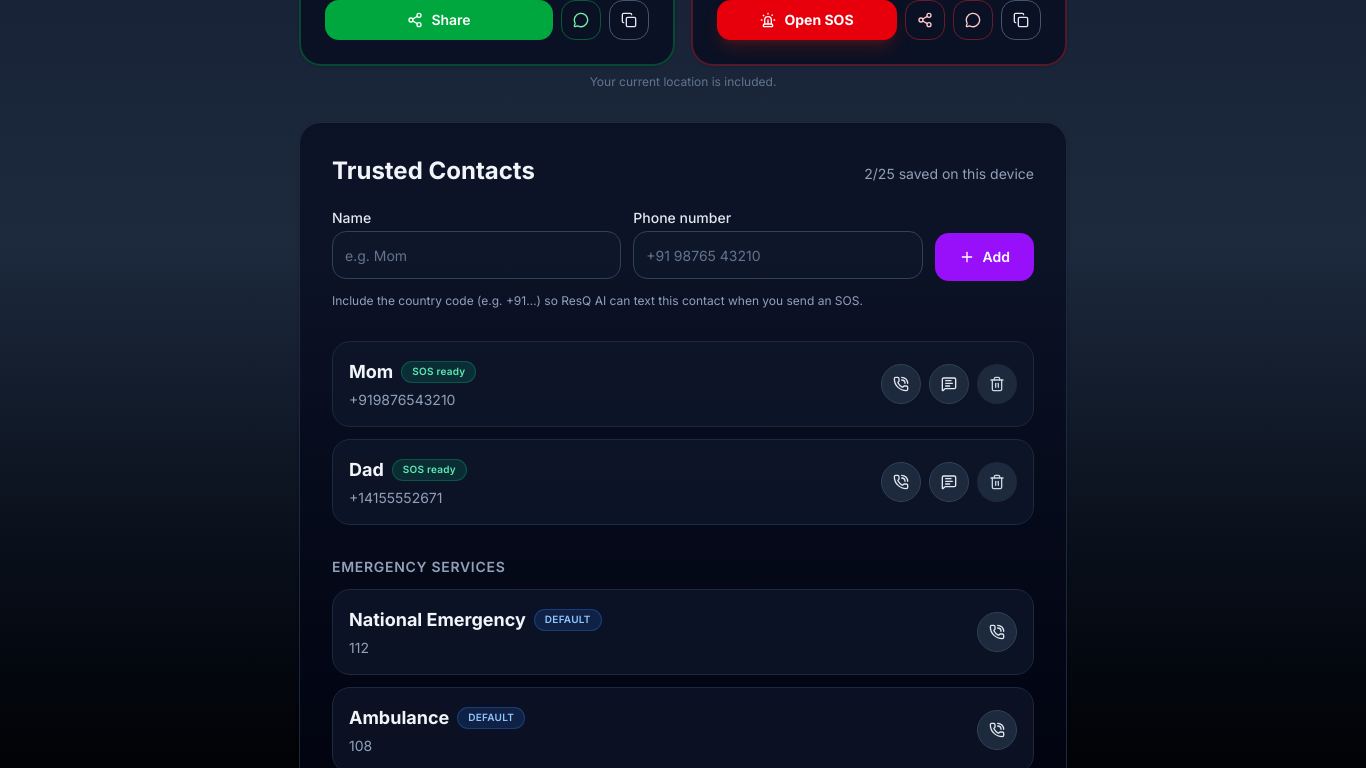
Test case: ContactsView › removes a contact with undo
Later steps or results of the test are not shown.
(page scrolled)
Click the button named "Remove Mom" at (997, 384), box x1=977 y1=364 x2=1017 y2=404
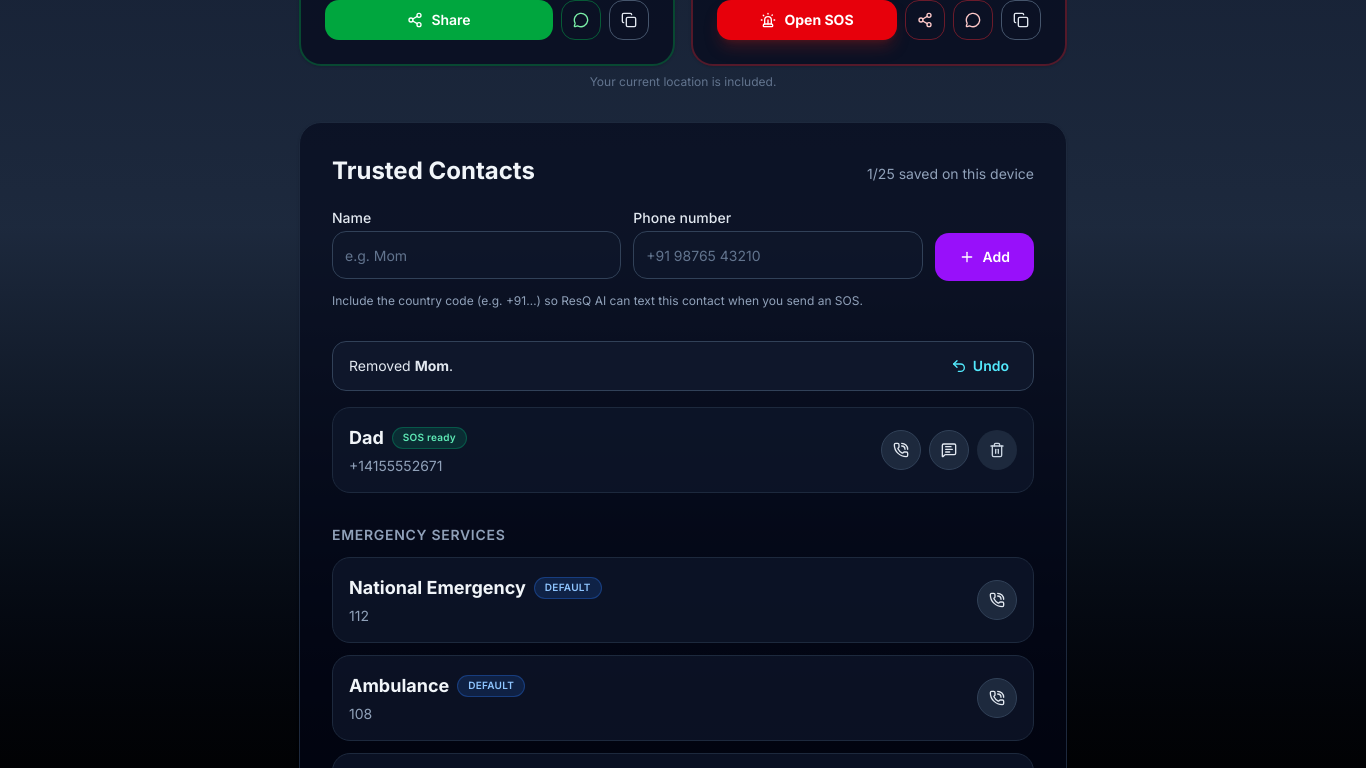
Expected: the text "Removed Mom." is shown, x1=349 y1=356 x2=453 y2=376
